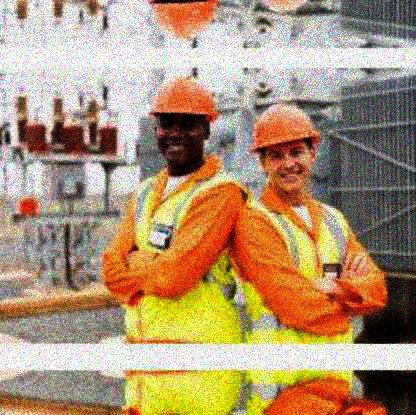helmet: (147, 77, 219, 177), (246, 103, 322, 191)
